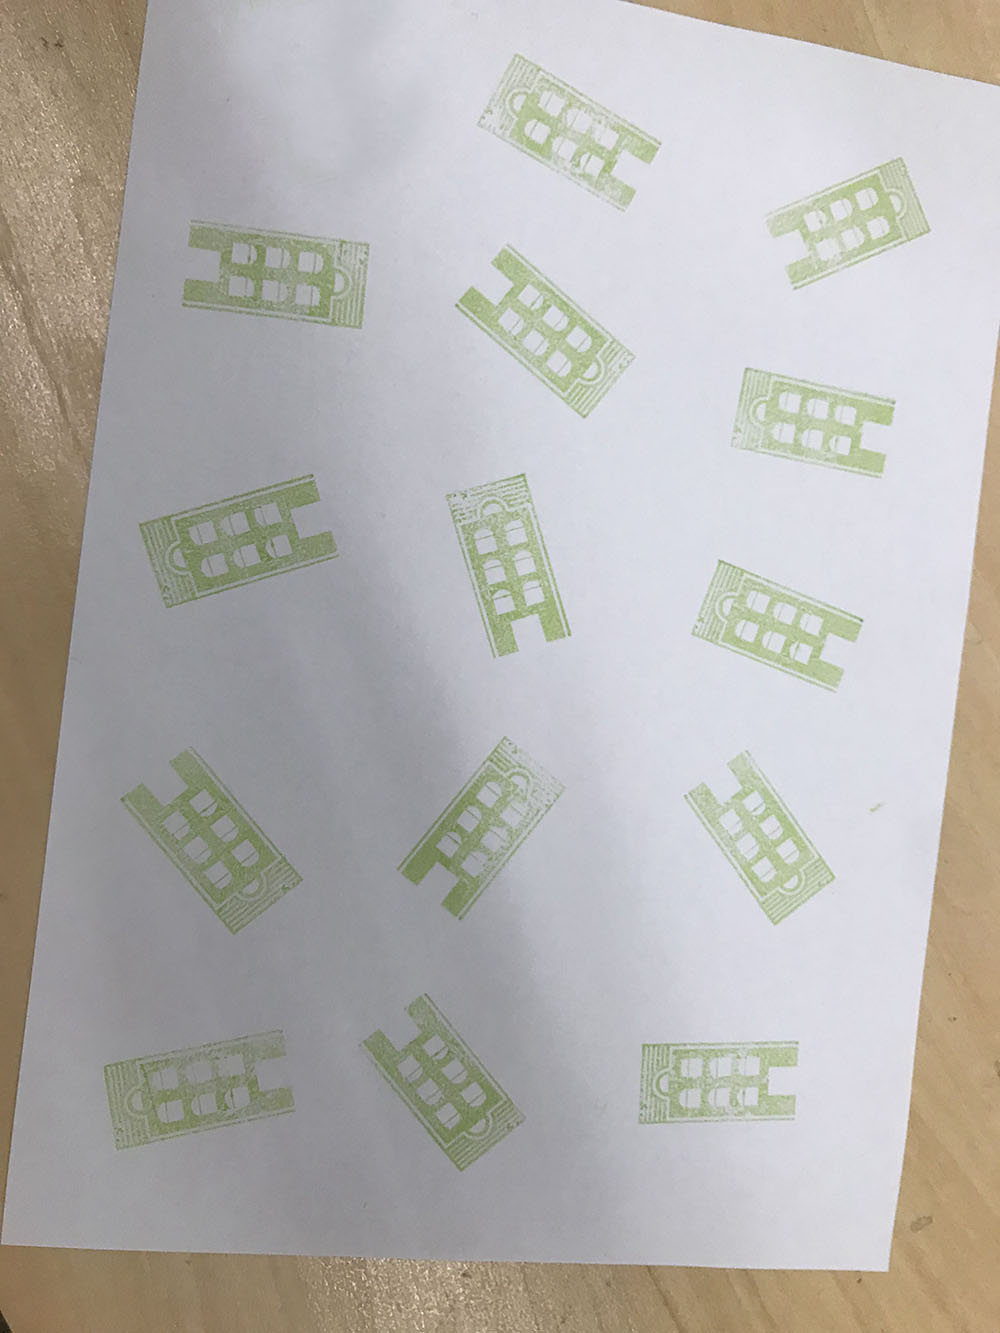build: (95, 722, 329, 960), (447, 39, 695, 233), (372, 713, 575, 947), (440, 229, 652, 436), (671, 535, 884, 725), (661, 733, 850, 946), (110, 458, 368, 615), (346, 975, 534, 1185), (85, 1004, 313, 1167), (746, 146, 957, 317), (421, 467, 595, 669), (153, 201, 389, 343), (710, 350, 914, 504), (617, 1017, 832, 1149)
